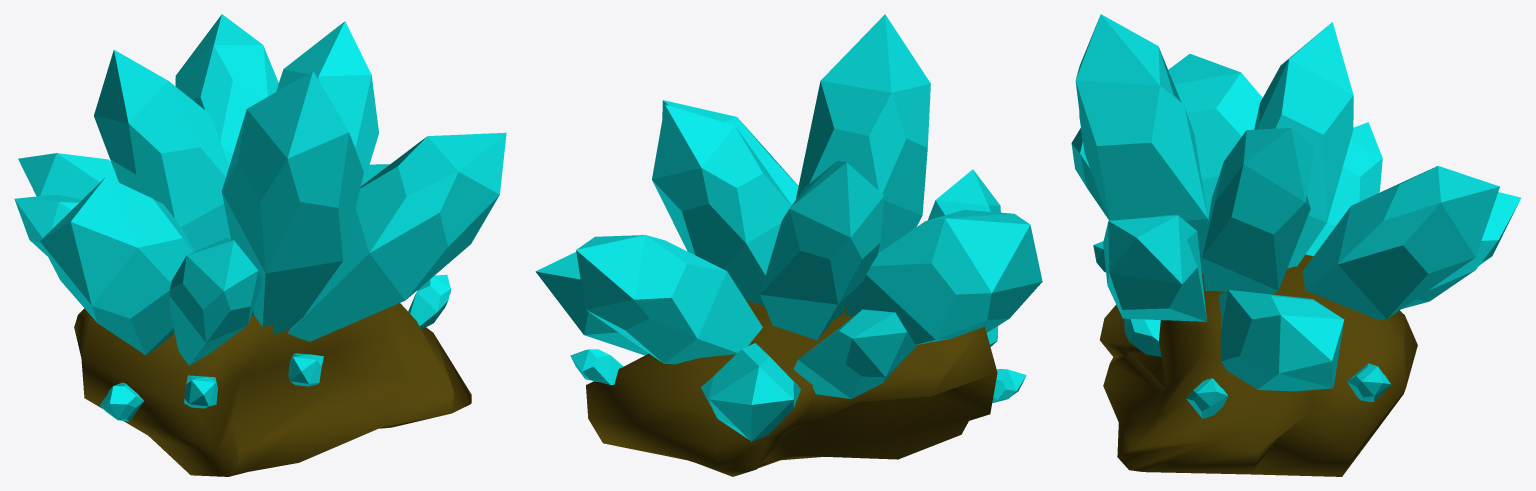
Rendered from Cristal Dos colores.fbx.
3 views of the same model, side by side, from view 1: azimuth 30°, elevation 25°; view 2: azimuth 150°, elevation 25°; view 3: azimuth 270°, elevation 25° (orthographic). The views are drawn at different scales.
Visible parts, largest first — view 1: polySurface263; view 2: polySurface263; view 3: polySurface263.
Boxes of the visible parts, x1,y1,x2,y2 form: polySurface263: (14, 14, 506, 476); polySurface263: (535, 14, 1042, 476); polySurface263: (1071, 14, 1520, 476).
Size of the model in its own units: 111 by 96.86 by 101.
